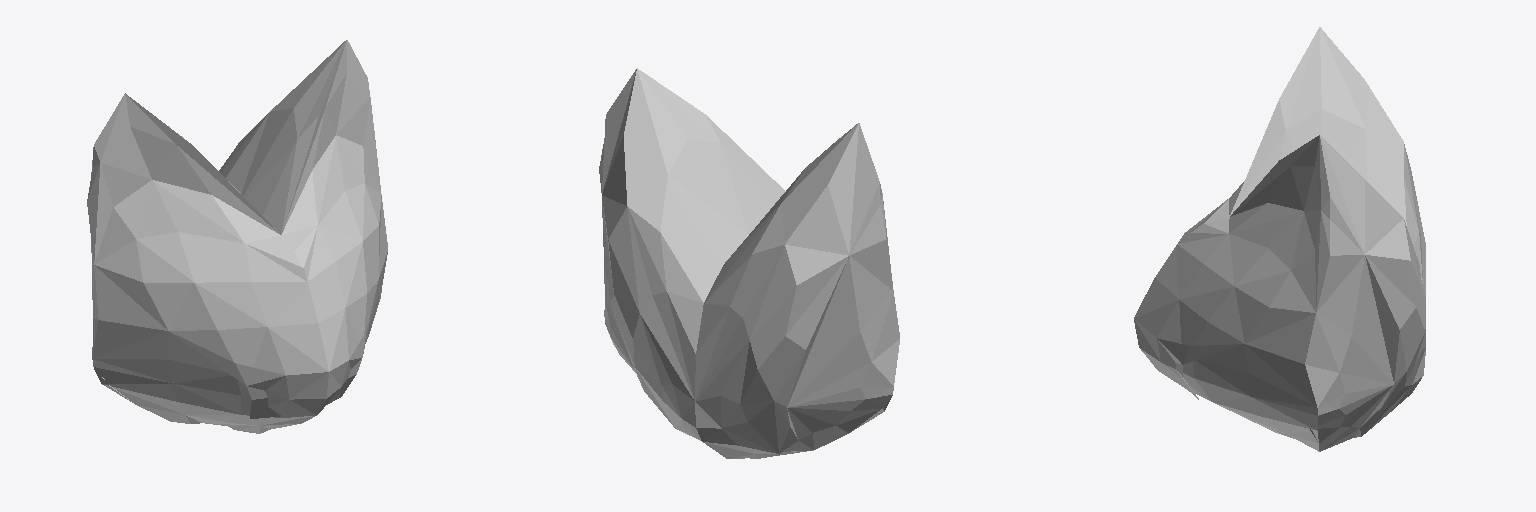
File: cat_model-head.obj
The picture shows the model from 3 angles: view 1: azimuth 30°, elevation 25°; view 2: azimuth 150°, elevation 25°; view 3: azimuth 270°, elevation 25°; orthographic projection.
Parts seen in each view (by area): view 1: Plane; view 2: Plane; view 3: Plane.
Boxes of the visible parts, <box> form: Plane: <box>87,40,387,433</box>; Plane: <box>599,68,899,458</box>; Plane: <box>1134,27,1425,451</box>.
Bounding box in the file's own units: 2.13 × 2.46 × 1.86.